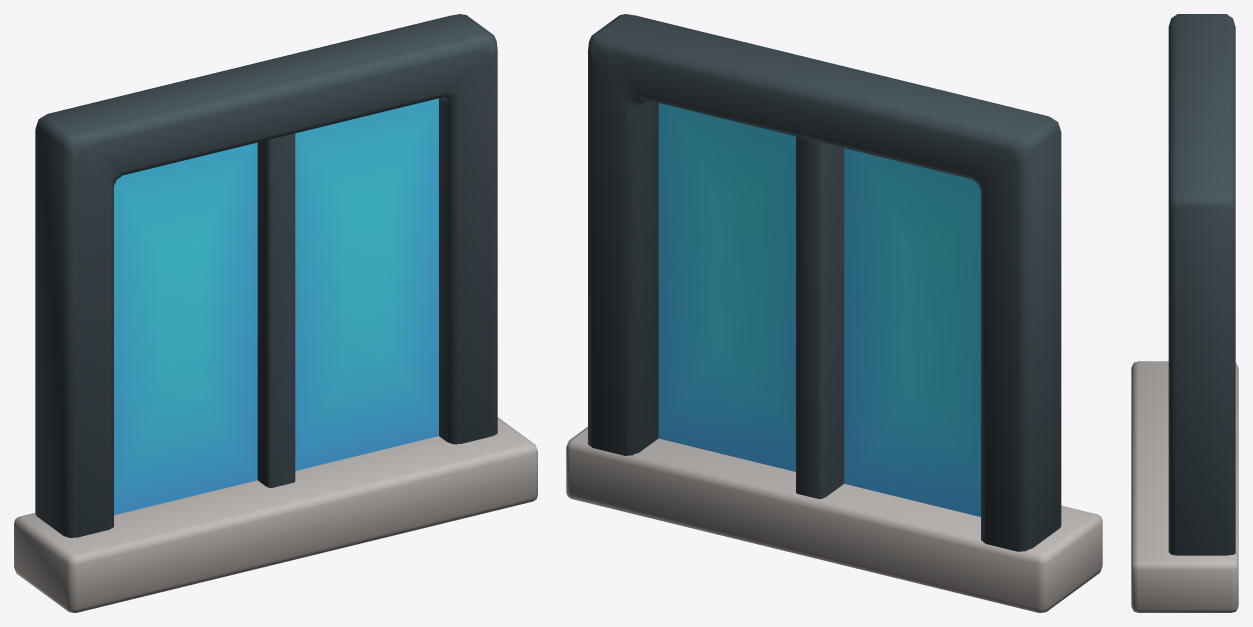
Rendered from mct_homepart_window01.fbx.
3 renders of one model, left to right at view 1: azimuth 30°, elevation 25°; view 2: azimuth 150°, elevation 25°; view 3: azimuth 270°, elevation 25°, orthographic. The views are drawn at different scales.
Parts seen in each view (by area): view 1: mct_window_01; view 2: mct_window_01; view 3: mct_window_01.
Part boxes in pixels (<box>): mct_window_01: <box>14,14,537,612</box>; mct_window_01: <box>566,14,1102,612</box>; mct_window_01: <box>1131,14,1238,612</box>.
Bounding box in the file's own units: 157 × 146 × 34.85.
